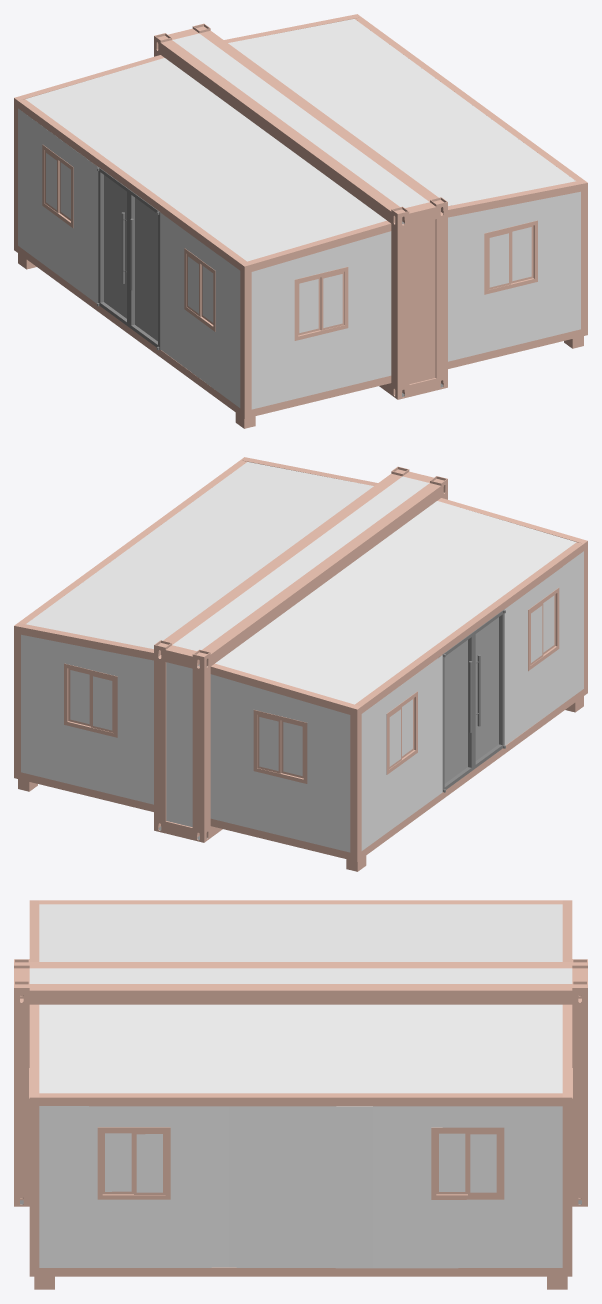
The model's file is ExpansionBox1185314321.glb.
The picture shows the model from 3 angles, top to bottom: view 1: azimuth 30°, elevation 25°; view 2: azimuth 150°, elevation 25°; view 3: azimuth 270°, elevation 25°; orthographic projection. The views are drawn at different scales.
Parts seen in each view (by area): view 1: Group116, Group82, Group57, Group90, Group49, Group39, Group12, Group68, Group63, Group114, Group11, Group35 (+28 smaller); view 2: Group116, Group82, Group2, Group108, Group49, Group39, Group12, Group68, Group16, Group114, Group27, Group17 (+28 smaller); view 3: Group82, Group116, Group96, Group84, Group1, Group115, Group12, Group83, Group105, Group68, Group13, Group15 (+17 smaller).
Part boxes in pixels (x1,y1,x2,y2): Group116: [25, 58, 386, 261]; Group82: [228, 19, 575, 205]; Group57: [251, 231, 391, 409]; Group90: [448, 191, 580, 361]; Group49: [18, 108, 98, 303]; Group39: [161, 213, 240, 407]; Group12: [172, 33, 429, 207]; Group68: [160, 40, 399, 223]; Group63: [409, 219, 435, 384]; Group114: [14, 98, 249, 273]; Group11: [391, 222, 409, 387]; Group35: [135, 198, 157, 341]; Group116: [215, 501, 576, 704]; Group82: [26, 462, 373, 648]; Group2: [210, 674, 350, 852]; Group108: [21, 634, 153, 804]; Group49: [361, 655, 442, 850]; Group39: [504, 551, 583, 745]; Group12: [172, 476, 429, 650]; Group68: [202, 483, 441, 666]; Group16: [166, 662, 192, 827]; Group114: [351, 541, 587, 716]; Group27: [444, 640, 467, 783]; Group17: [192, 665, 210, 830]; Group82: [39, 1004, 562, 1093]; Group116: [39, 904, 562, 961]; Group96: [373, 1106, 562, 1268]; Group84: [39, 1106, 228, 1267]; Group1: [229, 1106, 372, 1268]; Group115: [29, 984, 572, 1004]; Group12: [29, 968, 572, 983]; Group83: [29, 1093, 572, 1106]; Group105: [30, 1267, 572, 1276]; Group68: [29, 962, 572, 968]; Group13: [14, 998, 29, 1192]; Group15: [572, 998, 587, 1192].
Bounding box in the file's own units: 48.56 × 24.8 × 59.
